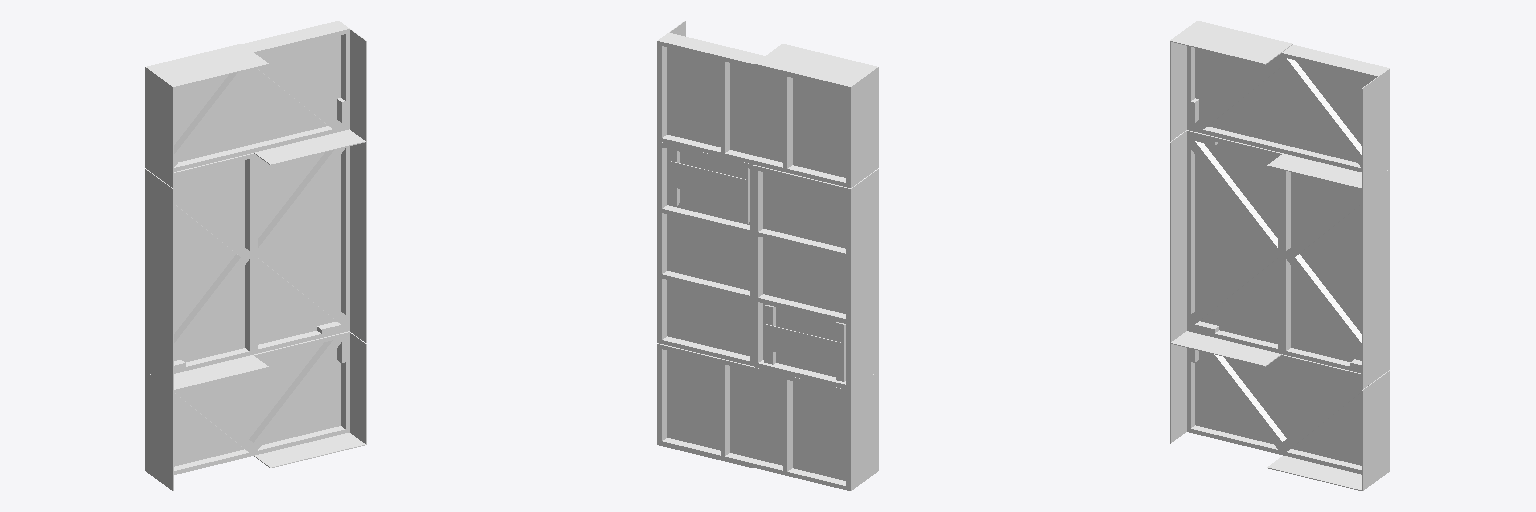
URDF robot description (1_Flat_KRails):
<?xml version="1.0" encoding="utf-8"?>
<!-- This URDF was automatically created by SolidWorks to URDF Exporter! Originally created by Stephen Brawner (brawner@gmail.com) 
     Commit Version: 1.6.0-4-g7f85cfe  Build Version: 1.6.7995.38578
     For more information, please see http://wiki.ros.org/sw_urdf_exporter -->
<robot
  name="1_Flat_KRails">
  <link
    name="base_link">
    <inertial>
      <origin
        xyz="1.4821 0.68233 0.1453"
        rpy="0 0 0" />
      <mass
        value="1003.3" />
      <inertia
        ixx="231.93"
        ixy="-6.8336E-13"
        ixz="7.1145E-15"
        iyy="218.67"
        iyz="1.6382E-15"
        izz="444.77" />
    </inertial>
    <visual>
      <origin
        xyz="0 0 0"
        rpy="0 0 0" />
      <geometry>
        <mesh
          filename="package://1_Flat_KRails/meshes/base_link.STL" />
      </geometry>
      <material
        name="">
        <color
          rgba="1 1 1 1" />
      </material>
    </visual>
    <collision>
      <origin
        xyz="0 0 0"
        rpy="0 0 0" />
      <geometry>
        <mesh
          filename="package://1_Flat_KRails/meshes/base_link.STL" />
      </geometry>
    </collision>
  </link>
</robot>

--- Render facts (derived) ---
The picture shows the robot from 3 angles, left to right: view 1: azimuth 30°, elevation 25°; view 2: azimuth 150°, elevation 25°; view 3: azimuth 330°, elevation 25°; orthographic projection.
Model 1_Flat_KRails with 1 links and 0 joints (none), rooted at base_link, posed all joints at 0.
Visible links, largest first — view 1: base_link; view 2: base_link; view 3: base_link.
Link boxes in pixels (<box>): base_link: <box>145,21,366,490</box>; base_link: <box>657,21,878,490</box>; base_link: <box>1170,21,1389,490</box>.
Size in the robot's own frame: 2.42 by 0.6 by 4.84 metres.
Meshes: 1 distinct files referenced, 1 mesh visuals loaded (1 binary STL).
